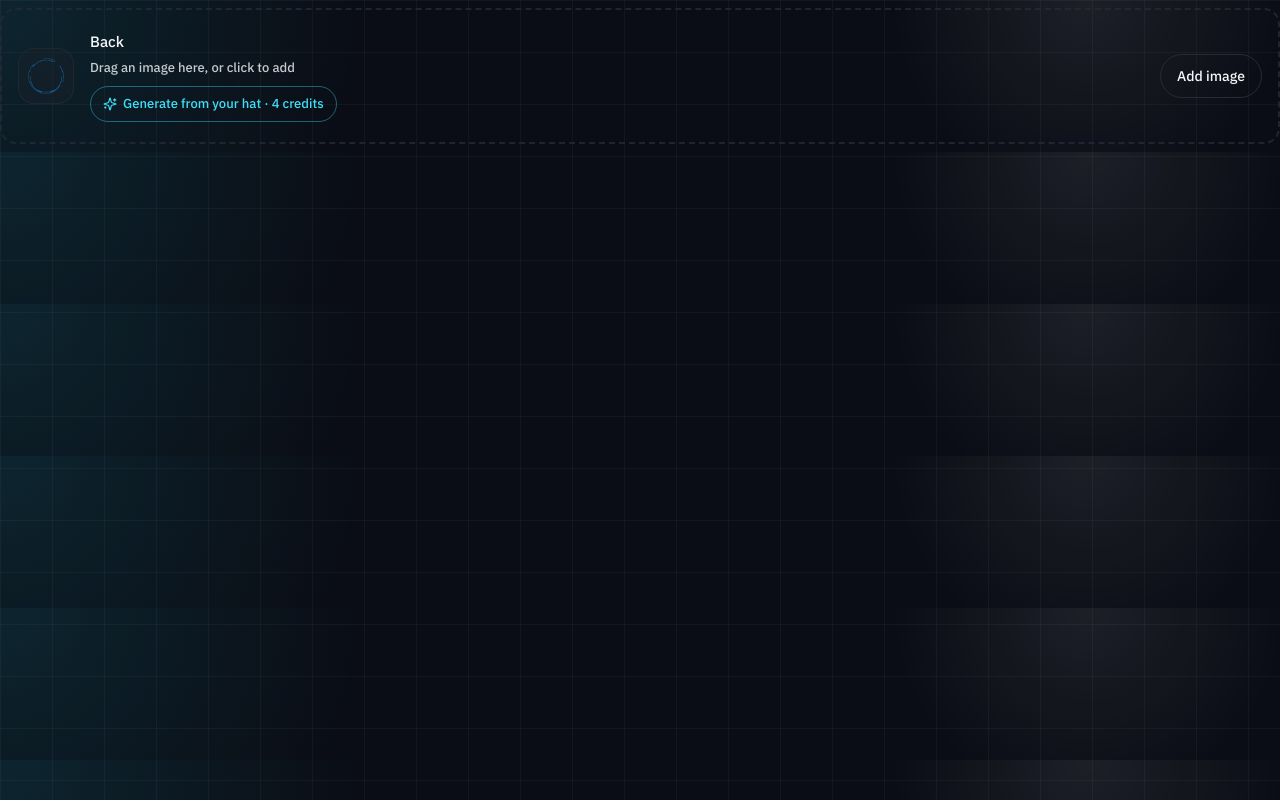
AI fill on an empty view row › shows the generated view for approval and only uses it on 'Use it'
This screenshot has width=1280, height=800.
Later steps or results of the test are not shown.
What coordinates should you click on to do the following:
click the button "Generate from your hat · 4 credits"
I would click on:
 (213, 104)
Its box is [90, 86, 337, 122].
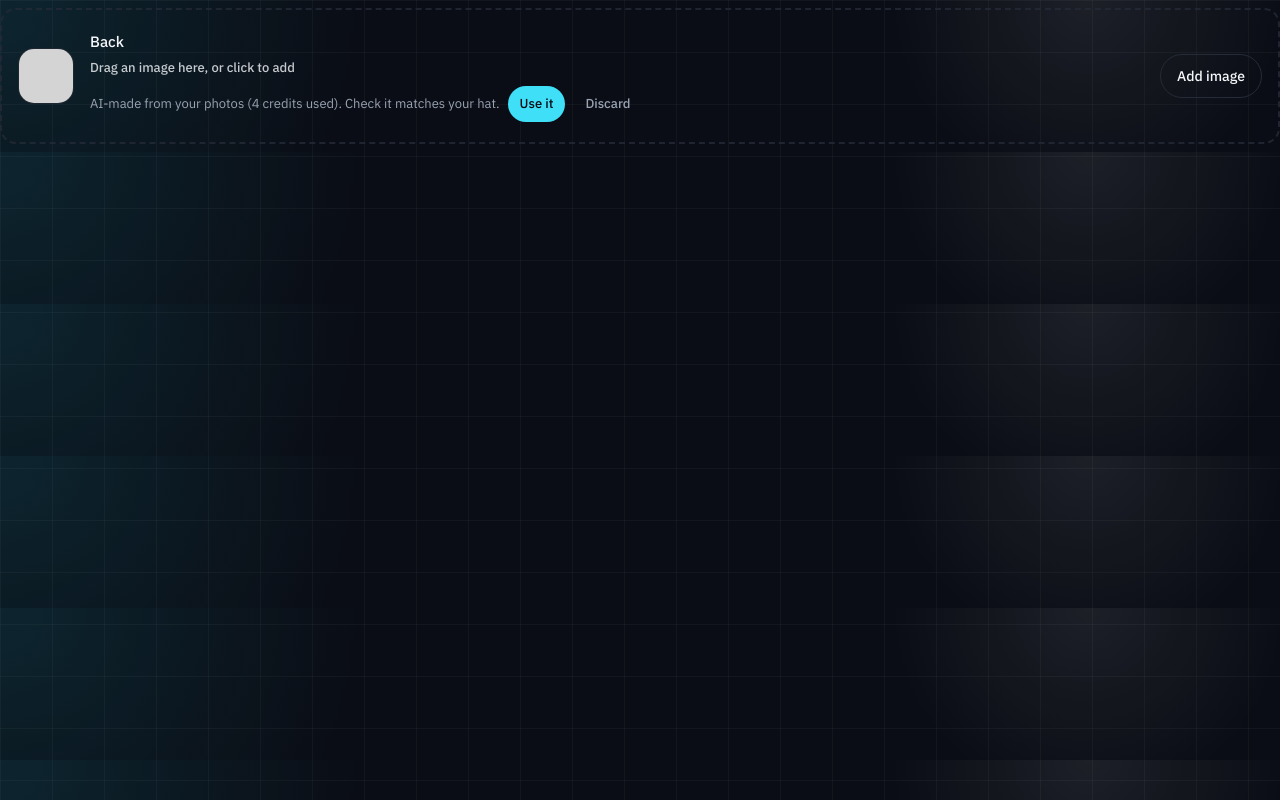
Now the text "AI-made from your photos (4 credits used)" is shown, box [90, 94, 500, 114]
